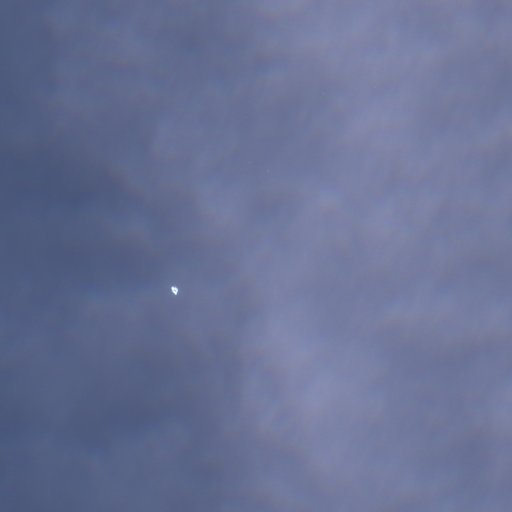Iceberg: (171, 286, 178, 294)
